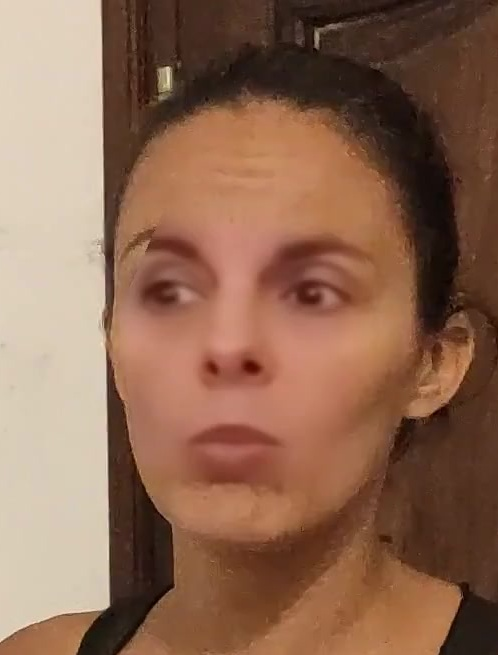eb_f: (113, 219, 388, 327)
